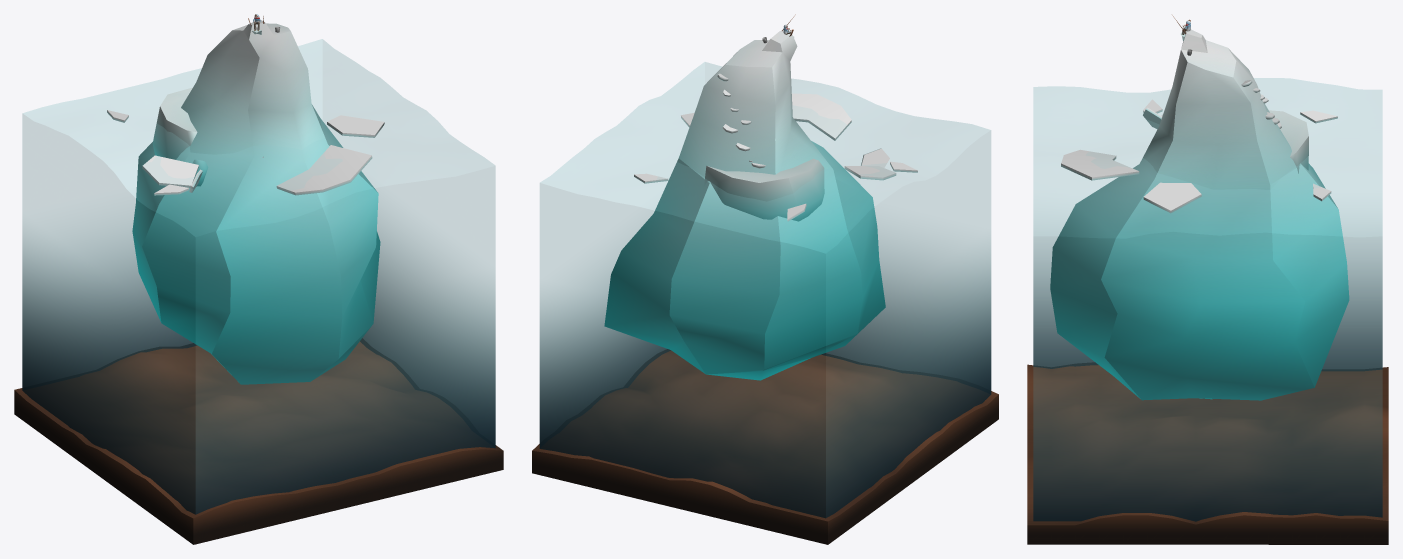
3 renders of one model, left to right at view 1: azimuth 30°, elevation 25°; view 2: azimuth 150°, elevation 25°; view 3: azimuth 270°, elevation 25°, orthographic. The views are drawn at different scales.
Visible parts, largest first — view 1: Acqua2, Iceberg, Terra, Ice3, pCube16, Ice1, Ice; view 2: Acqua2, Terra, Iceberg, pCube16, Ice3, Ice1; view 3: Acqua2, Iceberg, Terra, Ice3, pCube16, Ice.
Part boxes in pixels (x1,y1,x2,y2): Acqua2: (22, 39, 495, 514); Iceberg: (132, 20, 380, 384); Terra: (14, 341, 503, 544); Ice3: (276, 145, 372, 195); pCube16: (152, 87, 208, 186); Ice1: (142, 155, 198, 187); Ice: (327, 115, 384, 137); Acqua2: (539, 62, 991, 518); Terra: (532, 350, 998, 544); Iceberg: (604, 31, 885, 380); pCube16: (704, 158, 824, 221); Ice3: (791, 93, 851, 140); Ice1: (844, 166, 896, 180); Acqua2: (1033, 78, 1382, 521); Iceberg: (1050, 29, 1349, 400); Terra: (1027, 364, 1388, 544); Ice3: (1061, 149, 1139, 180); pCube16: (1269, 110, 1308, 173); Ice: (1143, 182, 1201, 213).
Bounding box in the file's own units: 11.03 × 15.09 × 11.03.
Materials: 4 (4 with a texture image).
